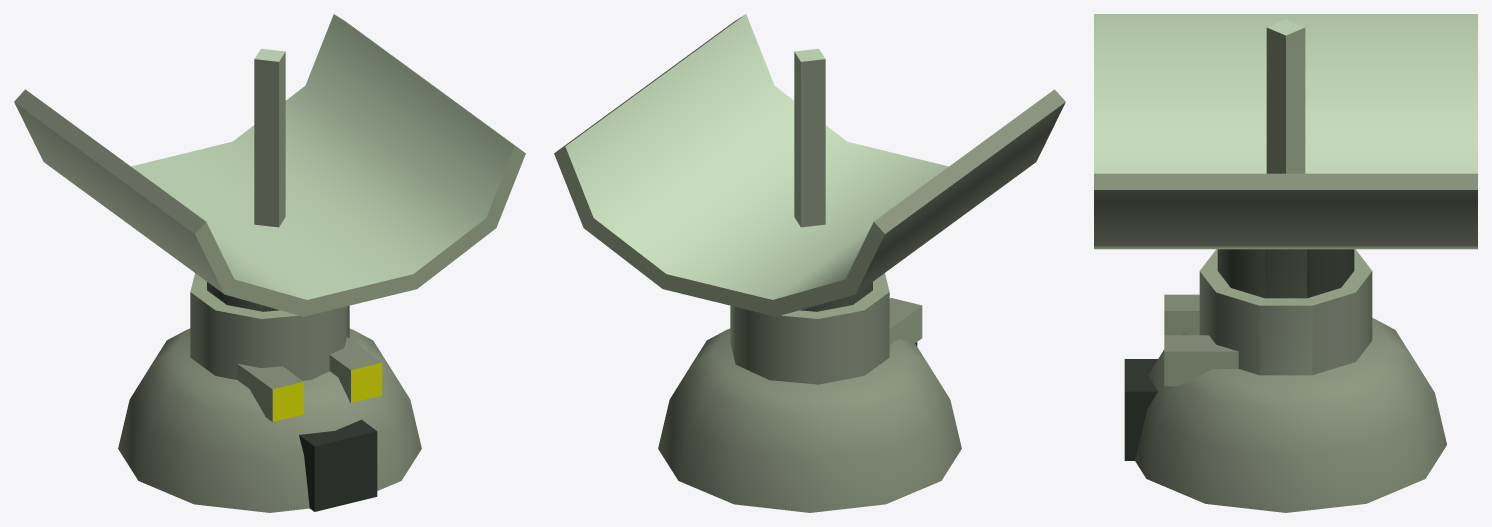
File: Lab.JadeSun.glb
3 views of the same model, side by side, from view 1: azimuth 30°, elevation 25°; view 2: azimuth 150°, elevation 25°; view 3: azimuth 270°, elevation 25° (orthographic). The views are drawn at different scales.
Visible parts, largest first — view 1: Lab.JadeSun; view 2: Lab.JadeSun; view 3: Lab.JadeSun.
Boxes of the visible parts, box(x1,y1,x2,y2) form: Lab.JadeSun: box(14, 14, 525, 512); Lab.JadeSun: box(554, 14, 1065, 512); Lab.JadeSun: box(1094, 14, 1477, 512).
Size of the model in its own units: 2.11 by 2.41 by 2.
Materials: 2 (1 with a texture image).
